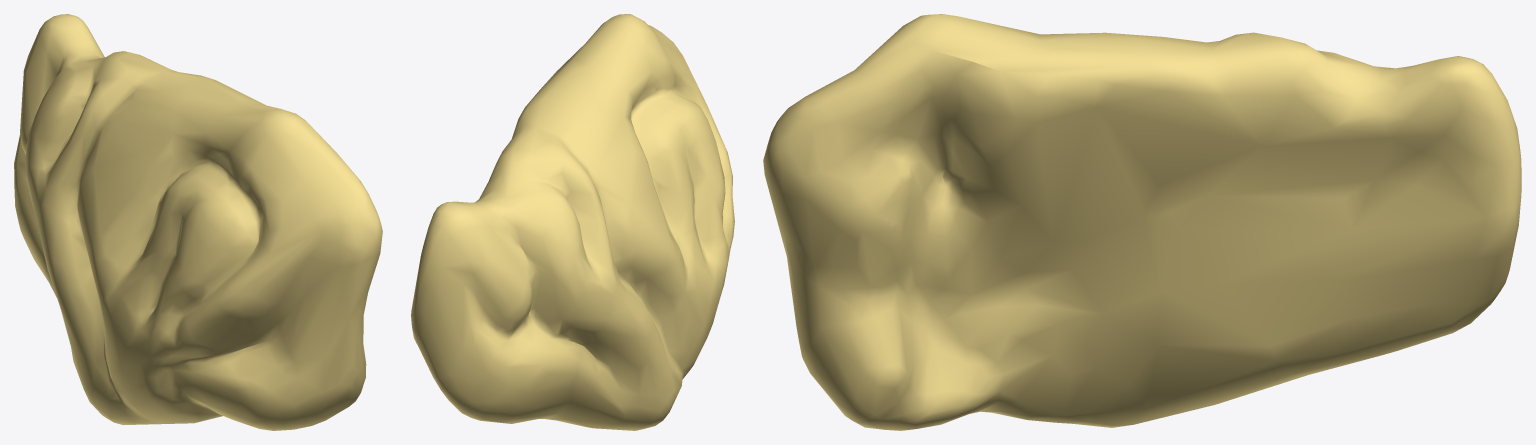
The model's file is fma72977_fj1749.glb.
3 renders of one model, left to right at view 1: azimuth 30°, elevation 25°; view 2: azimuth 150°, elevation 25°; view 3: azimuth 270°, elevation 25°, orthographic. The views are drawn at different scales.
Visible parts, largest first — view 1: FMA72977_FJ1749; view 2: FMA72977_FJ1749; view 3: FMA72977_FJ1749.
Part boxes in pixels (bbox=[...]): FMA72977_FJ1749: bbox=[14, 14, 382, 430]; FMA72977_FJ1749: bbox=[411, 14, 734, 430]; FMA72977_FJ1749: bbox=[763, 14, 1521, 430].
Size of the model in its own units: 0.0192 by 0.0345 by 0.0517.
